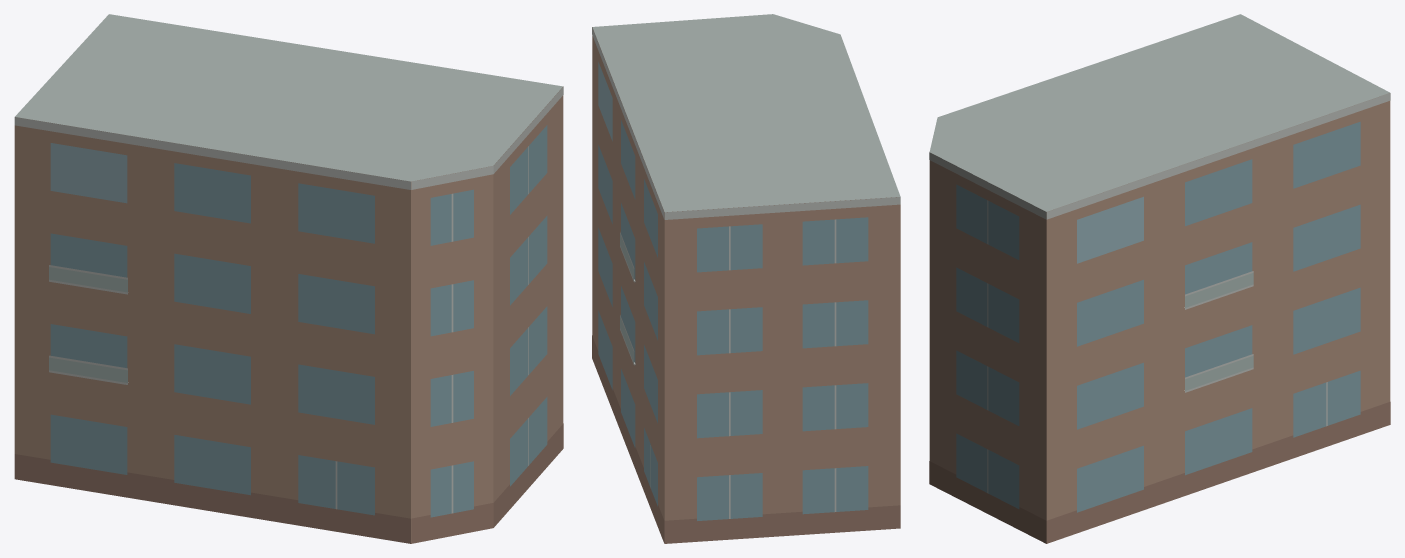
Rendered from survey-upis-32931475.glb.
3 renders of one model, left to right at view 1: azimuth 30°, elevation 25°; view 2: azimuth 150°, elevation 25°; view 3: azimuth 270°, elevation 25°, orthographic. The views are drawn at different scales.
Visible parts, largest first — view 1: survey-upis-32931475.tmp; view 2: survey-upis-32931475.tmp; view 3: survey-upis-32931475.tmp.
Part boxes in pixels (x1,y1,x2,y2): survey-upis-32931475.tmp: (14, 14, 563, 543); survey-upis-32931475.tmp: (592, 14, 900, 543); survey-upis-32931475.tmp: (929, 14, 1390, 543).
Size of the model in its own units: 13.3 by 10.39 by 13.09.
